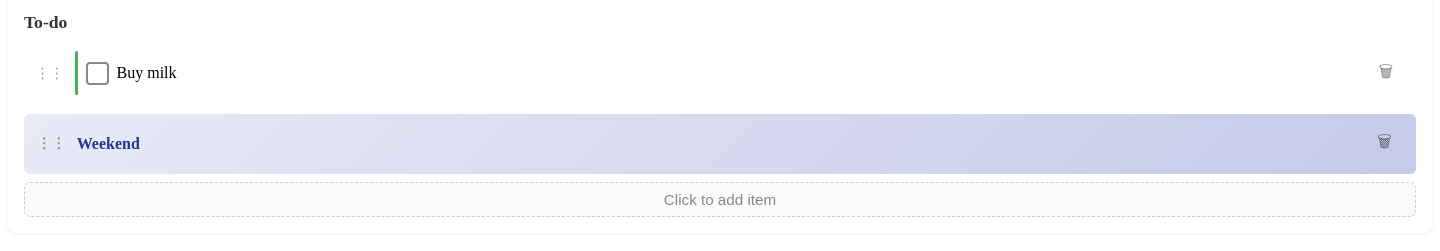
Test case: TodoList delete flow › does not delete when canceling
Expected: the button "Buy milk" is shown, [116, 64, 176, 81]
Step 1. Click the button named "Delete" → (1386, 73), box [1364, 51, 1408, 95]
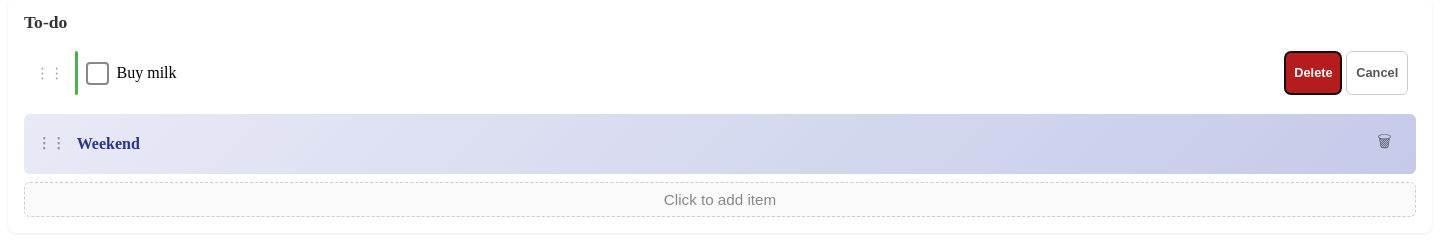
Step 2. Click the button "Cancel" → (1377, 73), box [1346, 51, 1408, 95]
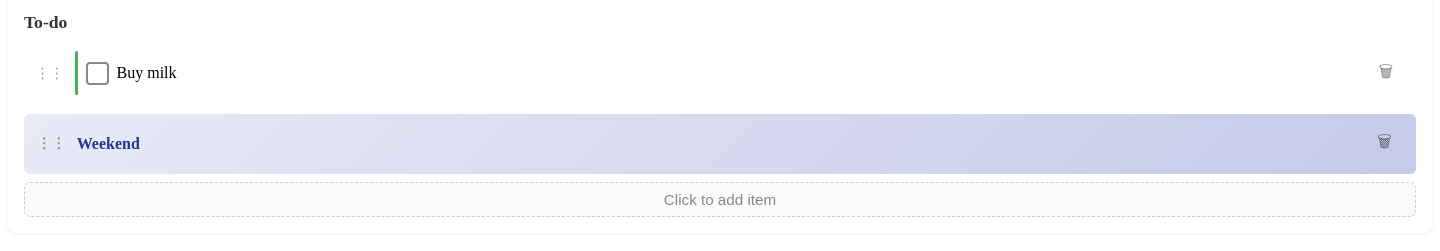
Expected: the button "Buy milk" is shown, [116, 64, 176, 81]
Expected: the button named "Delete" is shown, [1364, 51, 1408, 95]
